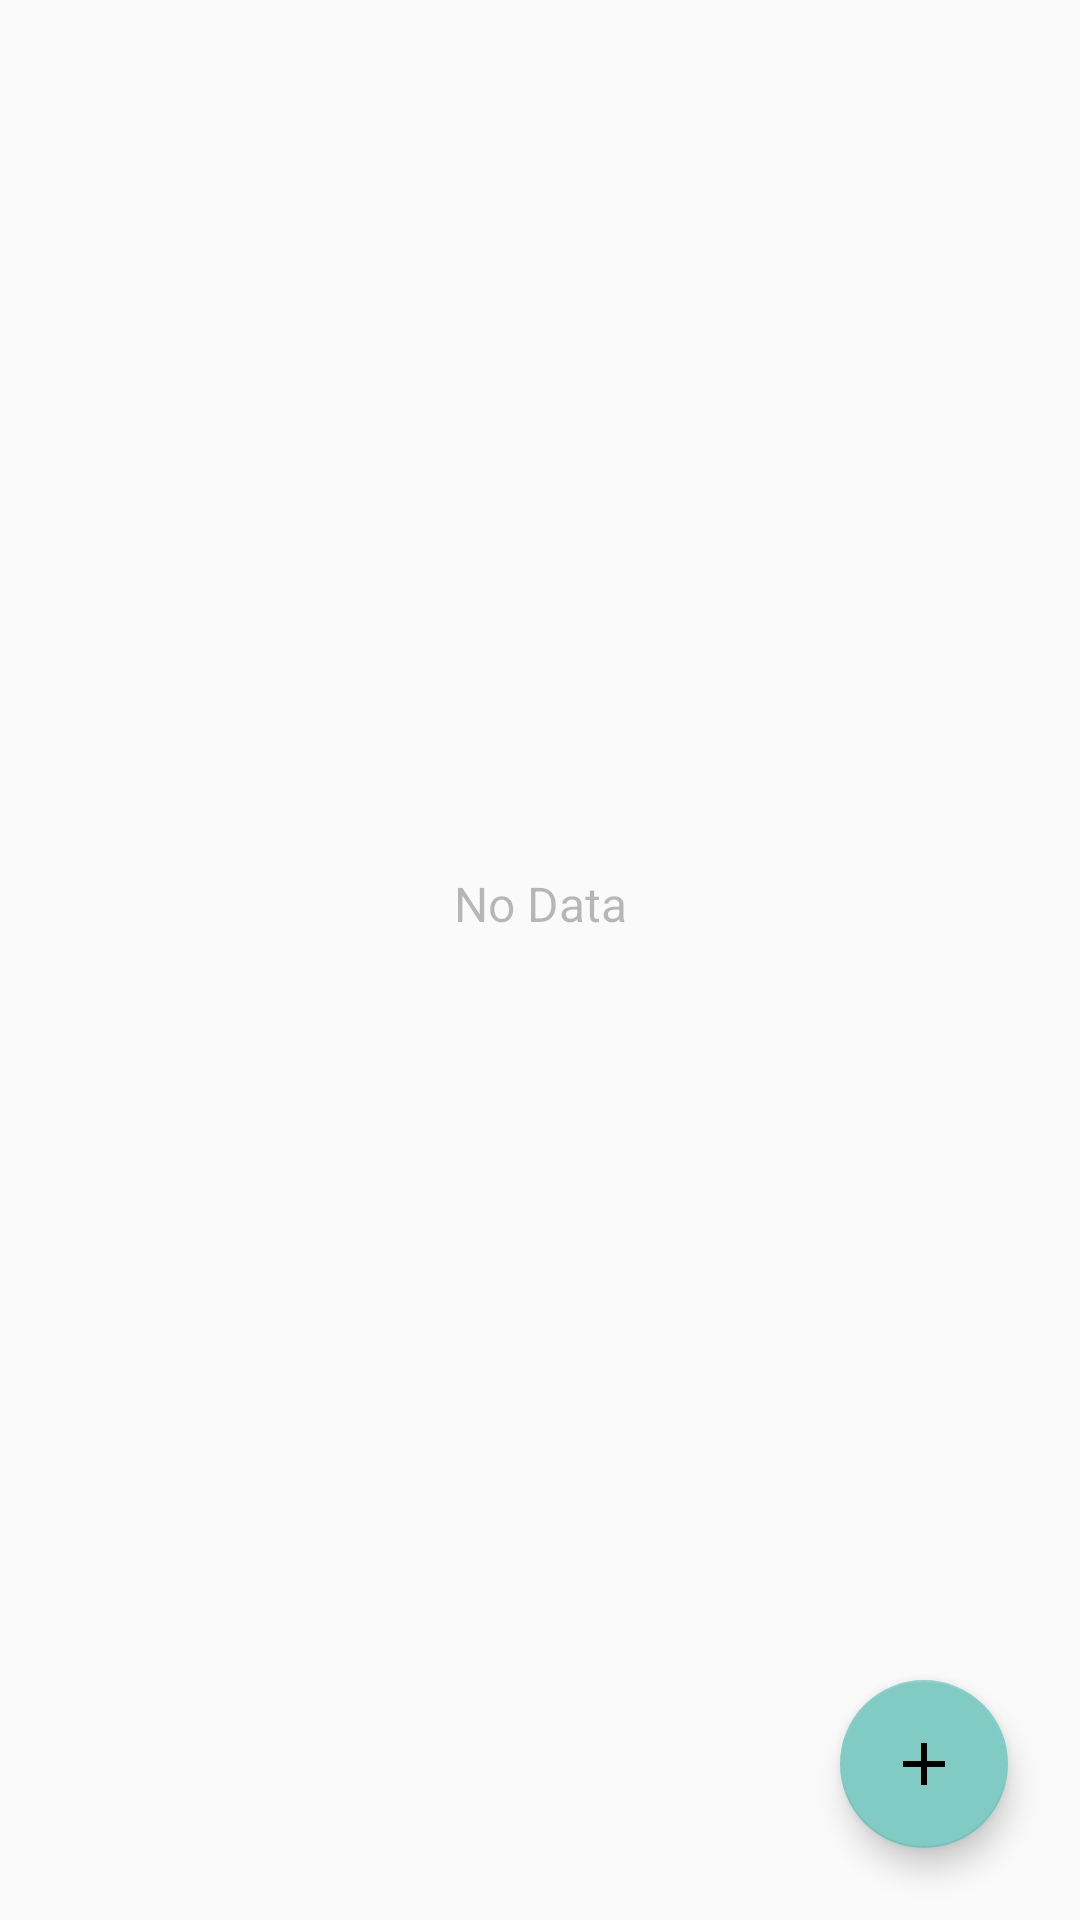

Icon bounding boxes for this 1080px×1920px phone screenshot, format bbox=(x1, y1, x2, y2):
add item: bbox=(840, 1680, 1008, 1848)
